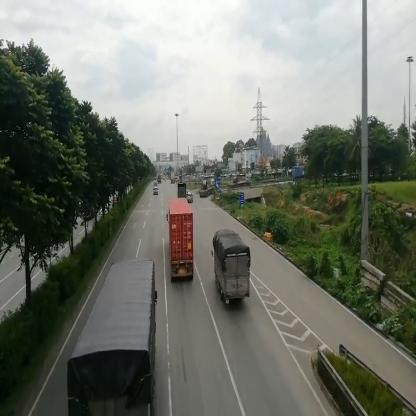car: (188, 194, 195, 206)
container: (170, 200, 196, 282), (200, 180, 216, 198), (293, 168, 307, 182)
truck: (79, 259, 157, 416), (215, 231, 251, 307)
